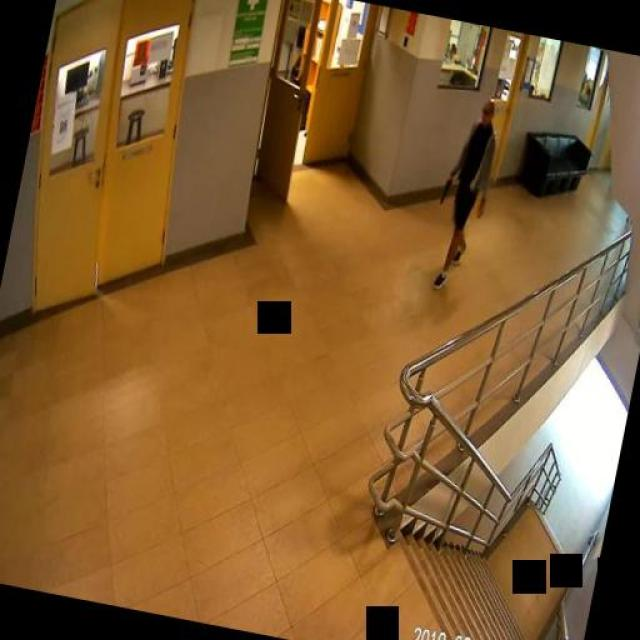gun: (439, 175, 451, 204)
